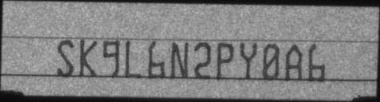0: (263, 41, 280, 79)
2: (194, 40, 212, 79)
6: (147, 39, 166, 78), (308, 43, 326, 83)
9: (103, 40, 120, 78)
A: (285, 42, 304, 81)
K: (79, 38, 98, 77)
L: (125, 39, 143, 79)
N: (170, 40, 190, 79)
P: (216, 41, 234, 80)
S: (55, 40, 74, 76)
Y: (239, 42, 258, 79)
